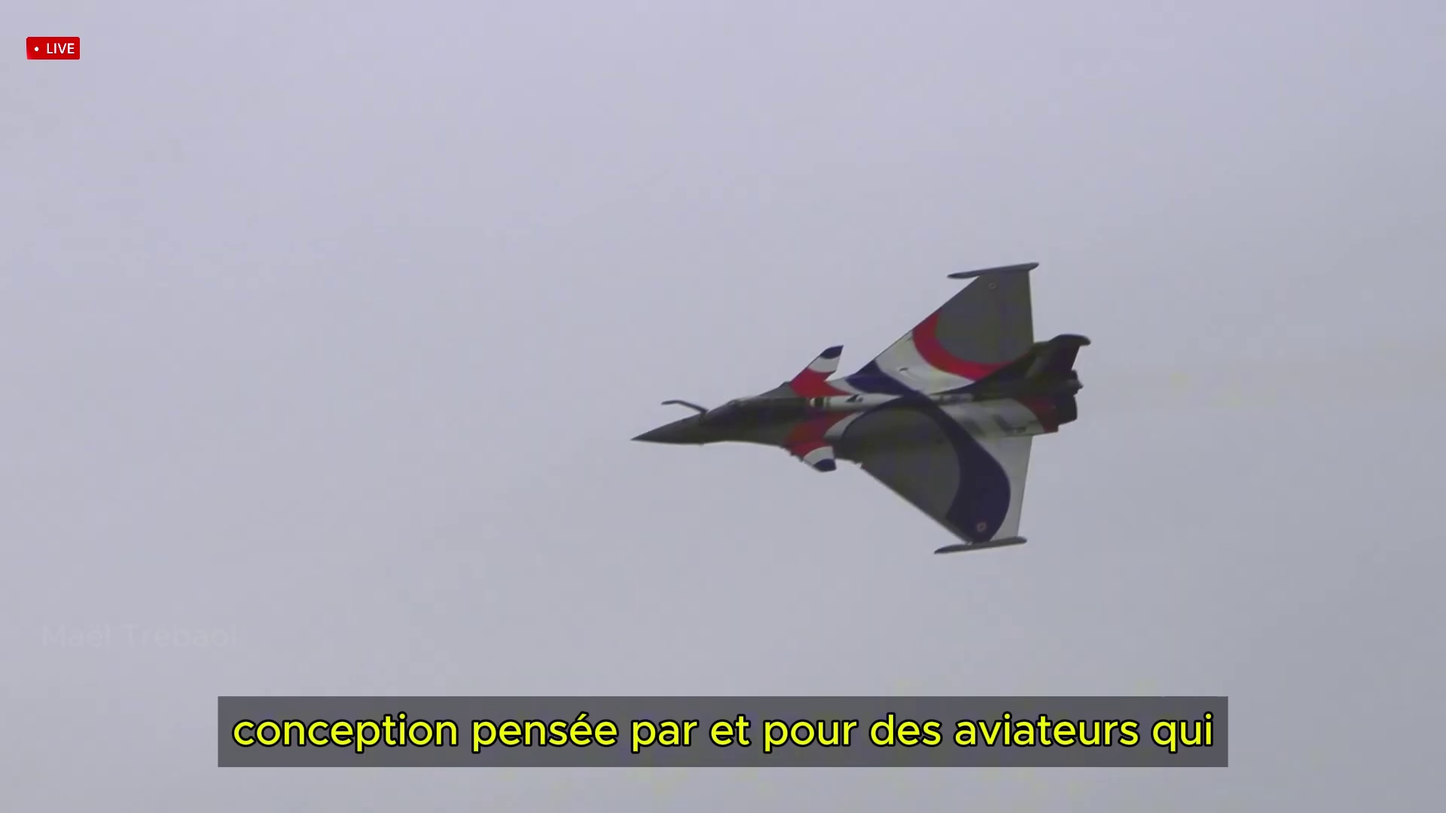Rafale: (630, 262, 1086, 556)
